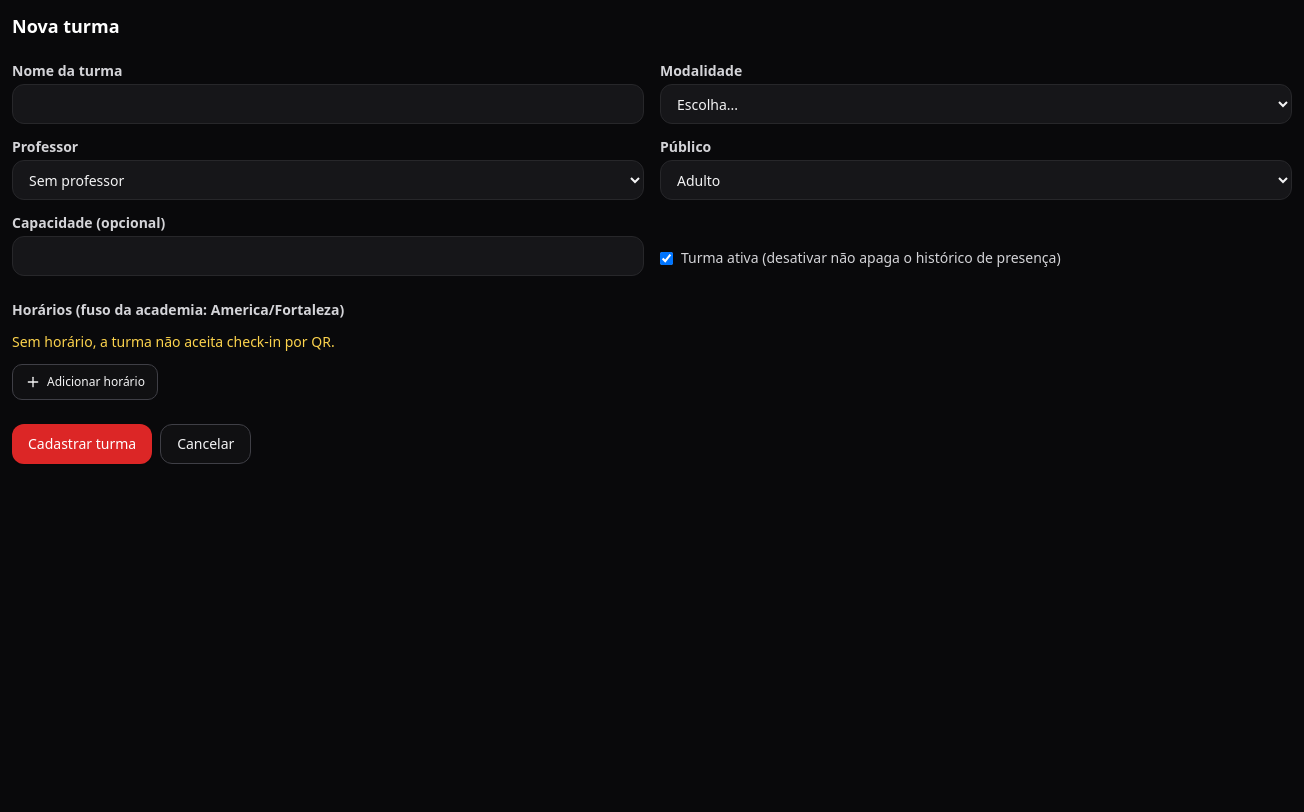
Test: Painel: turmas › cadastro › valida nome, modalidade e horários antes de gravar
This screenshot has width=1304, height=812.
Click the button "Adicionar horário" at x=85, y=382, box x1=12 y1=364 x2=158 y2=400
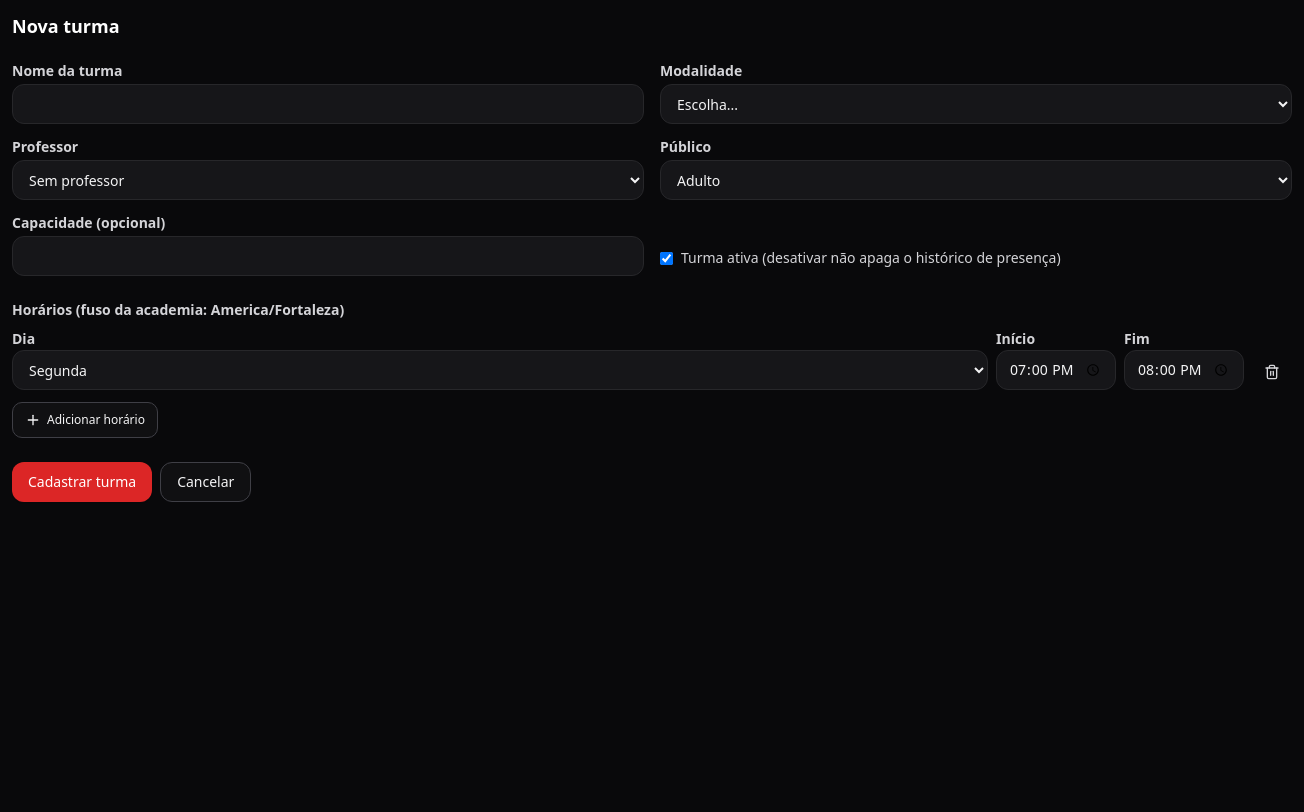
Click the button "Adicionar horário" at x=85, y=420, box x1=12 y1=402 x2=158 y2=438
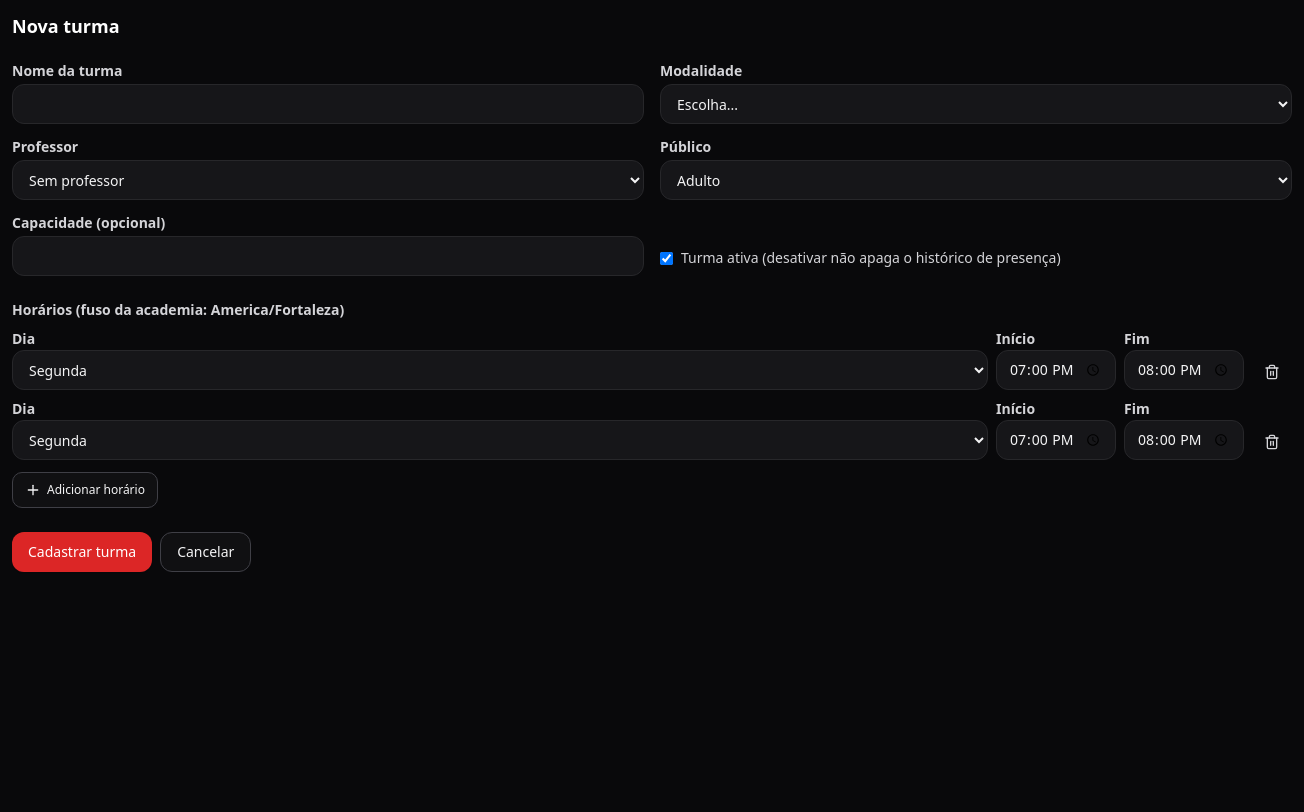
Click the button "Cadastrar turma" at x=82, y=552, box x1=12 y1=532 x2=152 y2=572
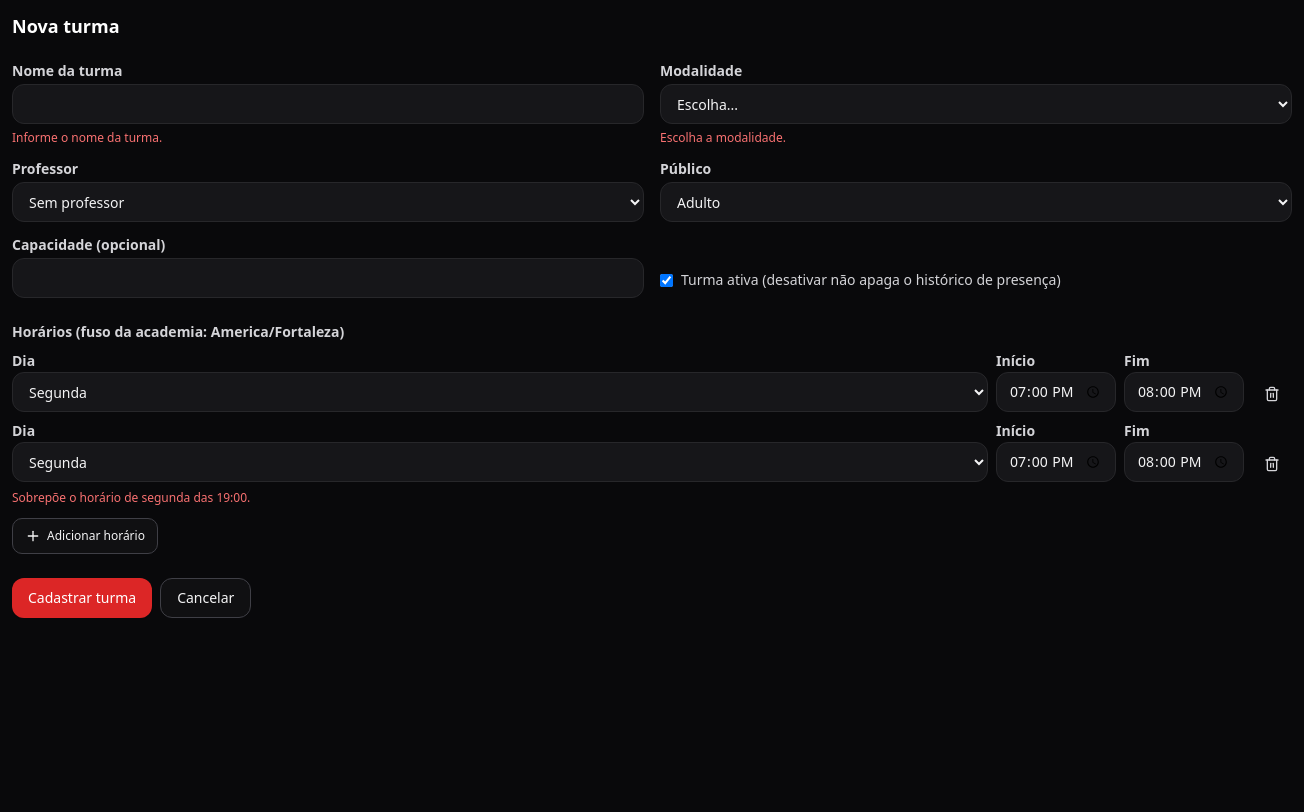
Check: the text "Informe o nome da turma." is shown, box x1=12 y1=129 x2=162 y2=146
Check: the text "Escolha a modalidade." is shown, box x1=660 y1=129 x2=786 y2=146
Check: the text "Sobrepõe o horário de segunda das 19:00." is shown, box x1=12 y1=489 x2=250 y2=506
